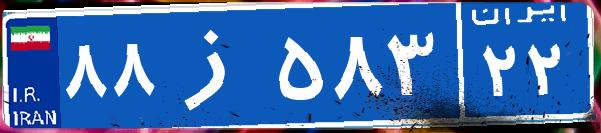2: (475, 38, 525, 113), (525, 38, 570, 115)
3: (385, 28, 445, 110)
5: (273, 28, 330, 110)
8: (330, 28, 385, 110), (57, 26, 110, 107), (110, 28, 158, 105)
ز: (158, 15, 273, 115)
